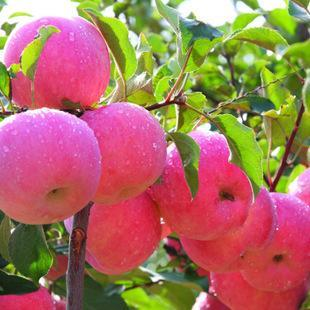apple: (1, 107, 101, 226), (3, 16, 111, 114), (77, 102, 168, 204), (156, 150, 254, 243), (66, 195, 162, 273)
